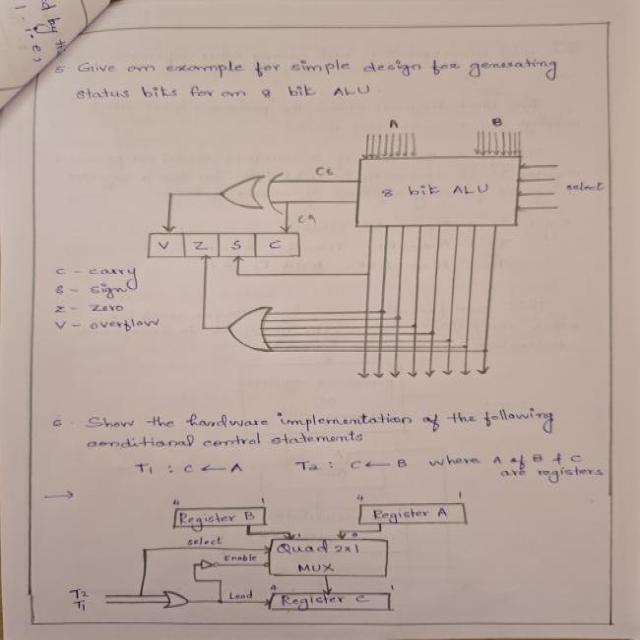Figure Detection - v3 Dataset Version2: (38, 106, 611, 392), (41, 486, 492, 620)
